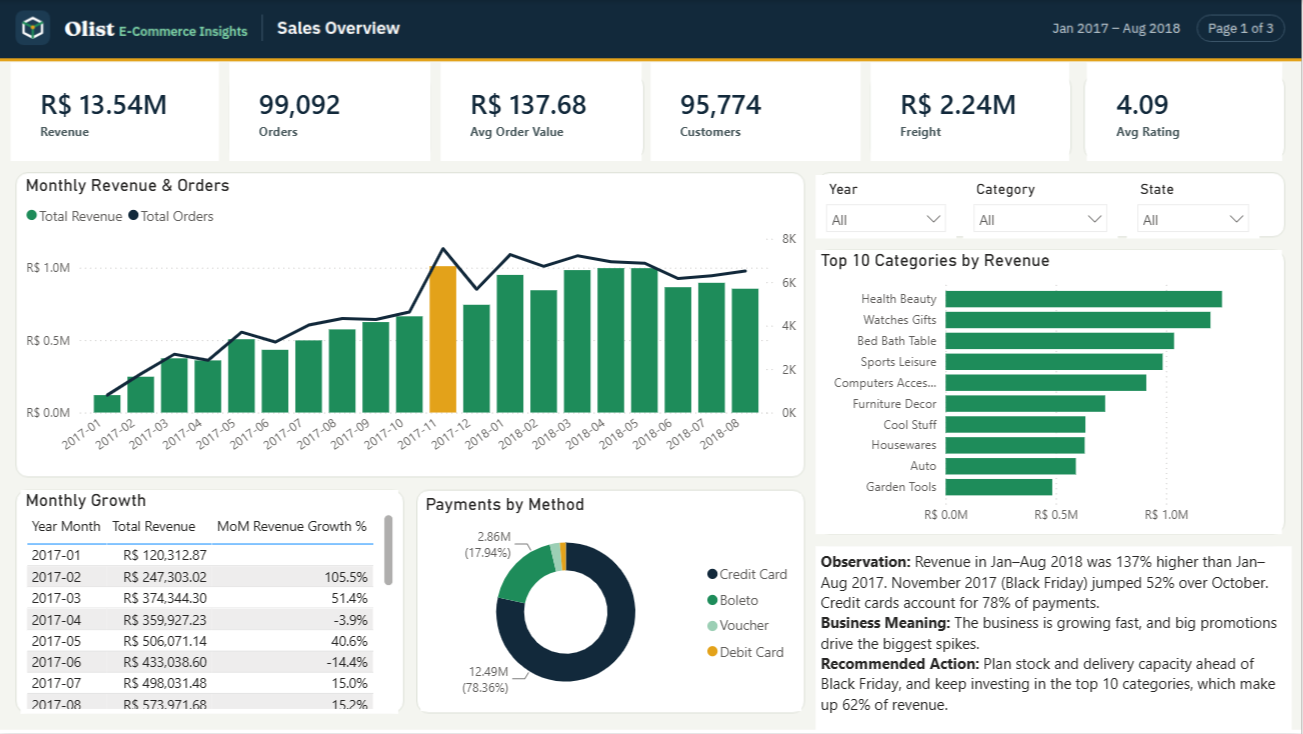

This screenshot's page, from the dashboard's own definition file:
{"tool":"powerbi","page":{"name":"Sales Overview","canvas":[1280,720],"ordinal":0},"visuals":[{"type":"cardVisual","fields":{"Data":["MMeasures.Total Revenue"]},"box":[11.1,61.4,205.2,97.1],"z":0},{"type":"cardVisual","fields":{"Data":["MMeasures.Avg Review Score"]},"box":[1068.9,61.4,191.7,97.1],"z":1000},{"type":"cardVisual","fields":{"Data":["MMeasures.Total Freight"]},"box":[856.4,61.4,195.4,97.1],"z":2000},{"type":"cardVisual","fields":{"Data":["MMeasures.Customers Card"]},"box":[640.1,61.4,206.4,97.1],"z":3000},{"type":"cardVisual","fields":{"Data":["MMeasures.Average Order Value"]},"box":[433.7,61.4,197.8,97.1],"z":4000},{"type":"cardVisual","fields":{"Data":["MMeasures.Orders Card"]},"box":[226.1,61.4,197.8,97.1],"z":5000},{"type":"lineClusteredColumnComboChart","title":"Monthly Revenue & Orders","fields":{"Category":["Dim_Date.Year Month"],"Y":["MMeasures.Total Revenue"],"Y2":["MMeasures.Total Orders"]},"box":[20.9,172,767.9,292.4],"z":6000},{"type":"slicer","fields":{"Values":["dim_products.Category"]},"box":[802.3,172,151.1,62.7],"z":7000},{"type":"clusteredBarChart","title":"Top 10 Categories by Revenue","fields":{"Category":["dim_products.Category"],"Y":["MMeasures.Total Revenue"]},"box":[802.3,250.6,458.3,274],"z":8000},{"type":"tableEx","title":"Monthly Growth","fields":{"Values":["Dim_Date.Year Month","MMeasures.Total Revenue","MMeasures.MoM Revenue Growth %"]},"box":[20.9,481.6,371.1,219.9],"z":9000},{"type":"donutChart","title":"Payments by Method","fields":{"Category":["fact_payments.payment_type"],"Y":["Sum(fact_payments.payment_value)"]},"box":[414.1,485.3,374.7,213.8],"z":10000},{"type":"textbox","box":[802.3,536.9,468.1,183.1],"z":11000},{"type":"slicer","fields":{"Values":["dim_customers.customer_state"]},"box":[1121.8,172,130.2,62.7],"z":12000},{"type":"slicer","fields":{"Values":["Dim_Date.Year"]},"box":[959.6,172,154.8,62.7],"z":13000}]}

Visuals, with their boxes in screenshot pixels (x1, y1, x2, y2), scaled from the page's 1280x720 canvas onto the 1303x734 screenshot:
cardVisual - MMeasures.Total Revenue: detection(11, 63, 220, 162)
cardVisual - MMeasures.Avg Review Score: detection(1088, 63, 1283, 162)
cardVisual - MMeasures.Total Freight: detection(872, 63, 1071, 162)
cardVisual - MMeasures.Customers Card: detection(652, 63, 862, 162)
cardVisual - MMeasures.Average Order Value: detection(441, 63, 643, 162)
cardVisual - MMeasures.Orders Card: detection(230, 63, 432, 162)
"Monthly Revenue & Orders" lineClusteredColumnComboChart: detection(21, 175, 803, 473)
slicer - dim_products.Category: detection(817, 175, 971, 239)
"Top 10 Categories by Revenue" clusteredBarChart: detection(817, 255, 1283, 535)
"Monthly Growth" tableEx: detection(21, 491, 399, 715)
"Payments by Method" donutChart: detection(422, 495, 803, 713)
textbox: detection(817, 547, 1293, 733)
slicer - dim_customers.customer_state: detection(1142, 175, 1274, 239)
slicer - Dim_Date.Year: detection(977, 175, 1134, 239)
